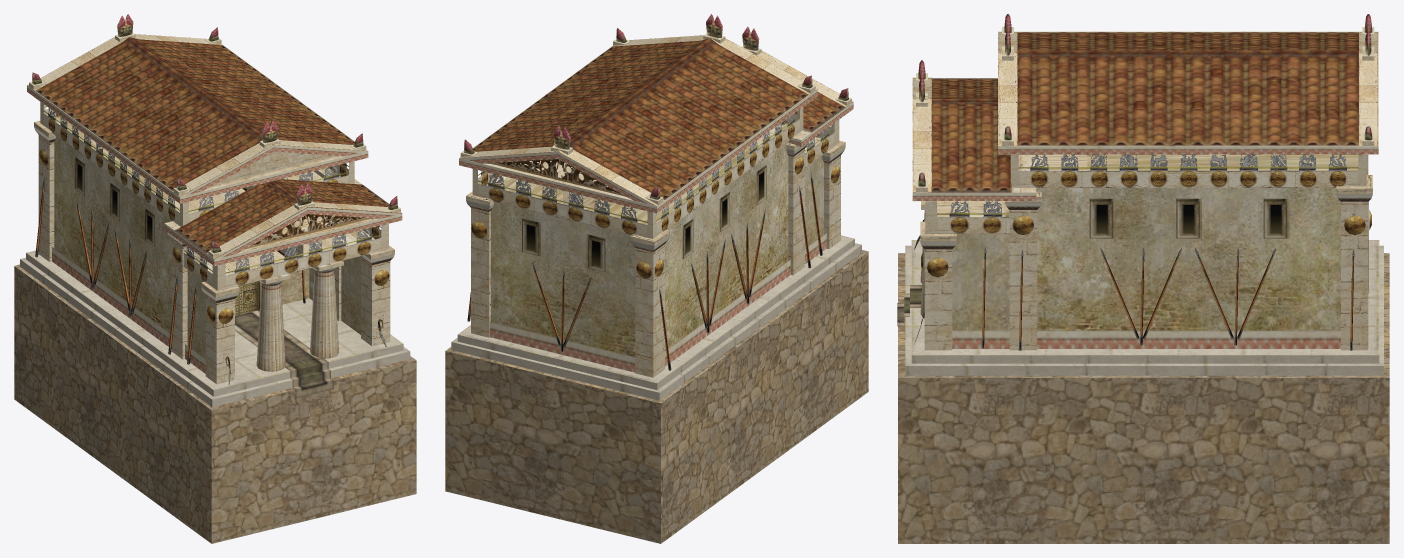
The model's file is spart_syssiton_2.dae.
3 renders of one model, left to right at view 1: azimuth 30°, elevation 25°; view 2: azimuth 150°, elevation 25°; view 3: azimuth 270°, elevation 25°, orthographic. The views are drawn at different scales.
Visible parts, largest first — view 1: Cube; view 2: Cube; view 3: Cube.
Part boxes in pixels (box(x1,y1,x2,y2)): Cube: box(14, 14, 416, 543); Cube: box(445, 14, 868, 543); Cube: box(897, 14, 1389, 543).
Size of the model in its own units: 14.62 by 24.43 by 24.93.
